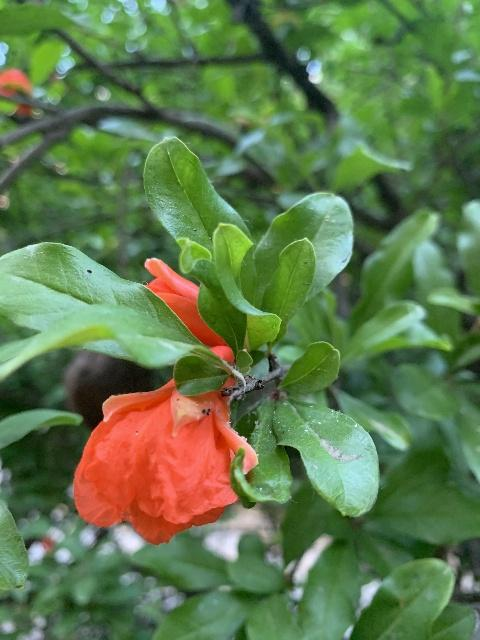flower: (72, 343, 255, 546), (142, 258, 231, 351)
